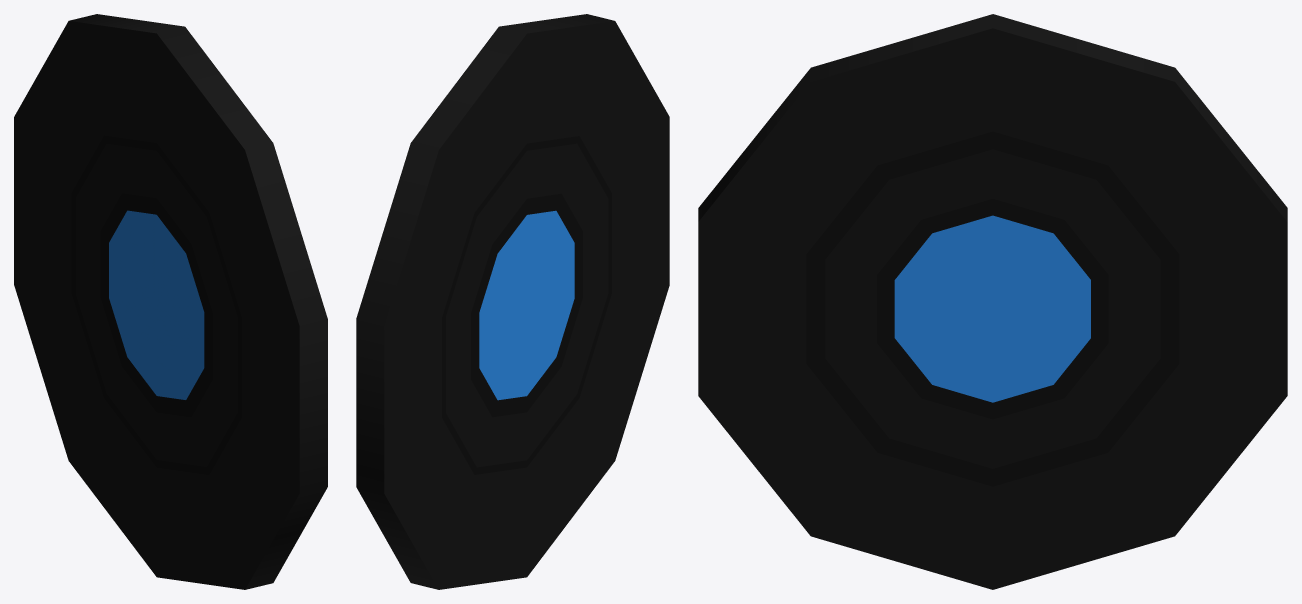
File: Vinyl_Blue.FBX
3 renders of one model, left to right at view 1: azimuth 30°, elevation 25°; view 2: azimuth 150°, elevation 25°; view 3: azimuth 270°, elevation 25°, orthographic. The views are drawn at different scales.
Parts seen in each view (by area): view 1: Vinyl_Blue; view 2: Vinyl_Blue; view 3: Vinyl_Blue.
Part boxes in pixels (left/top/right/bottom): Vinyl_Blue: left=14, top=14, right=327, bottom=589; Vinyl_Blue: left=356, top=14, right=669, bottom=589; Vinyl_Blue: left=698, top=14, right=1287, bottom=589.
Size of the model in its own units: 4.5 by 82.65 by 78.63.
